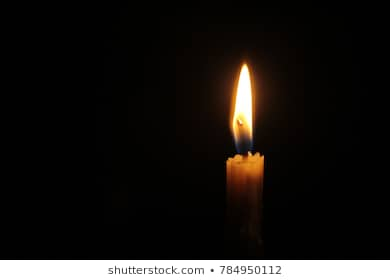Fire: (229, 61, 261, 143)
